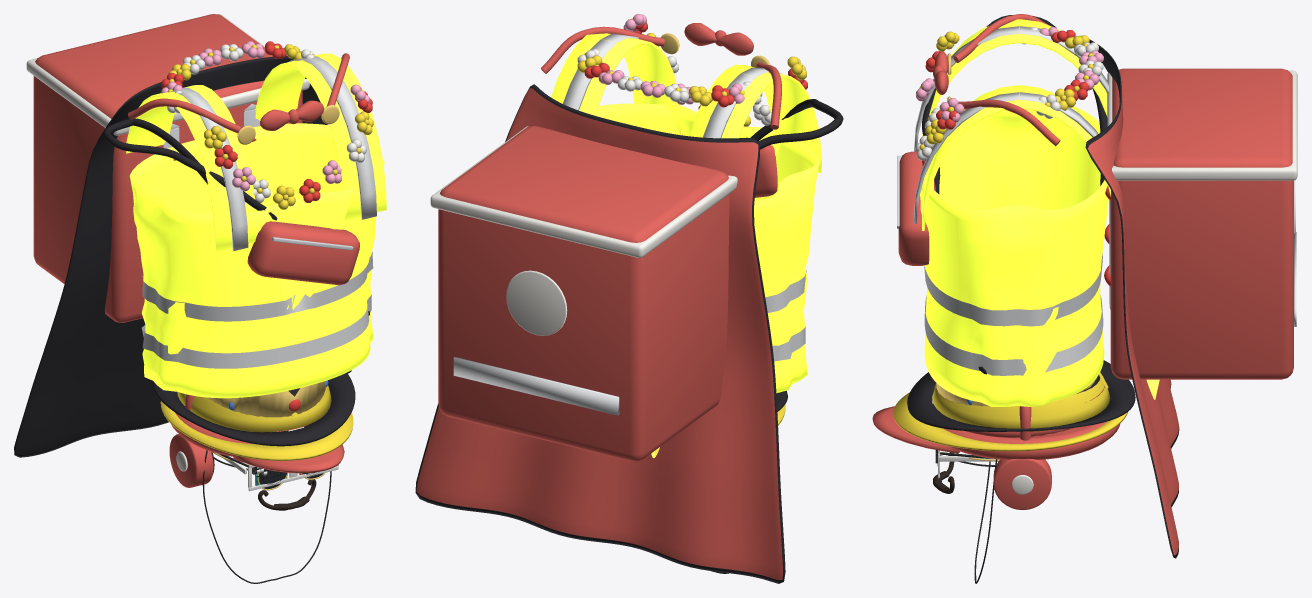
The model's file is garde-robe-v01.glb.
3 views of the same model, side by side, from view 1: azimuth 30°, elevation 25°; view 2: azimuth 150°, elevation 25°; view 3: azimuth 270°, elevation 25° (orthographic). The views are drawn at different scales.
Parts seen in each view (by area): view 1: Gilet fluo, Sac livreur, Cape, Gilet bretelle 1, Banane poche, Gilet bretelle -1, Melon bord, Gilet bande 1.05, Gilet bande 1.13, Casque chantier bord, Casque chantier dôme, Gilet bretelle bande 1 (+9 smaller); view 2: Sac livreur, Cape, Gilet fluo, Livreur couvercle, Gilet bretelle 1, Gilet bretelle -1, Livreur bande, Livreur logo, Banane sangle, Gilet bretelle bande 1, Gilet bretelle bande -1, Cape attache 1 (+6 smaller); view 3: Sac livreur, Gilet fluo, Cape, Casque chantier dôme, Livreur couvercle, Melon bord, Gilet bande 1.13, Casque chantier bord, Gilet bande 1.05, Banane poche, Gilet bretelle 1, Bonnet revers (+8 smaller).
Boxes of the visible parts, x1,y1,x2,y2 form: Gilet fluo: [129, 123, 384, 398]; Sac livreur: [33, 14, 302, 322]; Cape: [14, 56, 351, 457]; Gilet bretelle 1: [255, 53, 386, 220]; Banane poche: [247, 221, 359, 285]; Gilet bretelle -1: [126, 85, 256, 251]; Melon bord: [153, 372, 355, 446]; Gilet bande 1.05: [141, 294, 371, 368]; Gilet bande 1.13: [142, 251, 373, 321]; Casque chantier bord: [160, 401, 353, 460]; Casque chantier dôme: [177, 385, 331, 432]; Gilet bretelle bande 1: [289, 56, 376, 219]; Sac livreur: [438, 126, 730, 461]; Cape: [415, 84, 785, 583]; Gilet fluo: [596, 103, 819, 393]; Livreur couvercle: [430, 126, 737, 257]; Gilet bretelle 1: [551, 33, 681, 134]; Gilet bretelle -1: [689, 64, 821, 173]; Livreur bande: [453, 357, 619, 415]; Livreur logo: [506, 270, 567, 335]; Banane sangle: [750, 99, 843, 149]; Gilet bretelle bande 1: [563, 33, 638, 110]; Gilet bretelle bande -1: [703, 67, 782, 138]; Cape attache 1: [541, 26, 664, 73]; Sac livreur: [1110, 68, 1293, 379]; Gilet fluo: [920, 107, 1108, 406]; Cape: [1085, 39, 1179, 558]; Casque chantier dôme: [932, 372, 1110, 431]; Livreur couvercle: [1107, 70, 1297, 180]; Melon bord: [907, 360, 1135, 431]; Gilet bande 1.13: [924, 253, 1102, 326]; Casque chantier bord: [893, 392, 1127, 451]; Gilet bande 1.05: [924, 295, 1103, 375]; Banane poche: [898, 151, 935, 265]; Gilet bretelle 1: [922, 85, 1110, 230]; Bonnet revers: [943, 421, 1119, 459].
Size of the model in its own units: 0.6072 by 0.8384 by 0.626.
